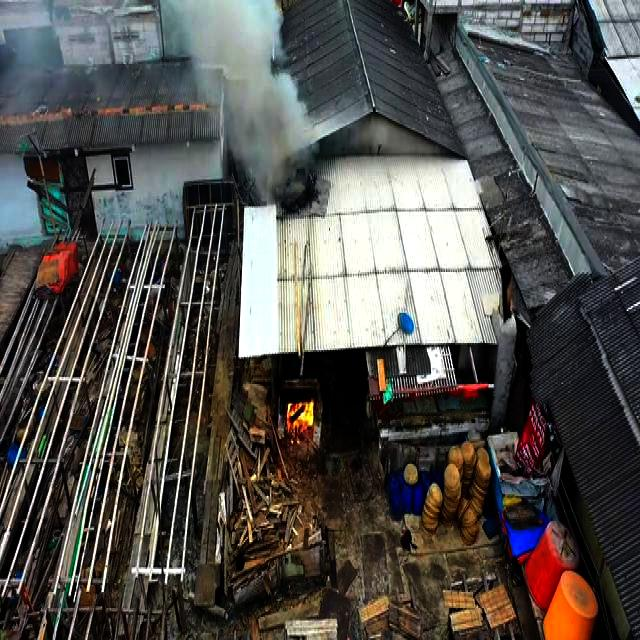smoke: (225, 78, 316, 210), (174, 0, 280, 94)
